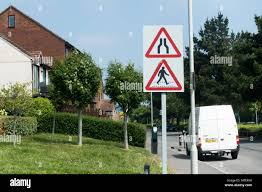car: (191, 105, 242, 162)
narrow-road: (145, 26, 182, 57)
pedestrian: (144, 58, 183, 88)
